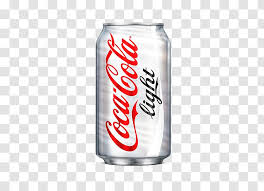can: (89, 18, 180, 170)
